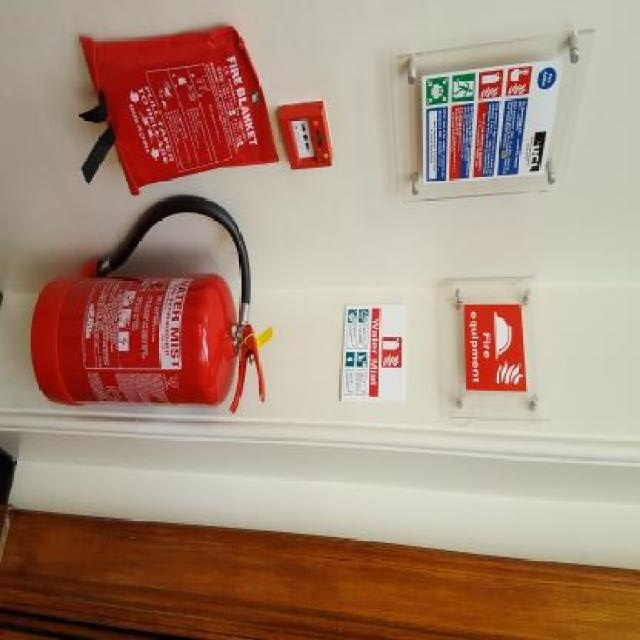fire extinguisher: (31, 203, 265, 420)
